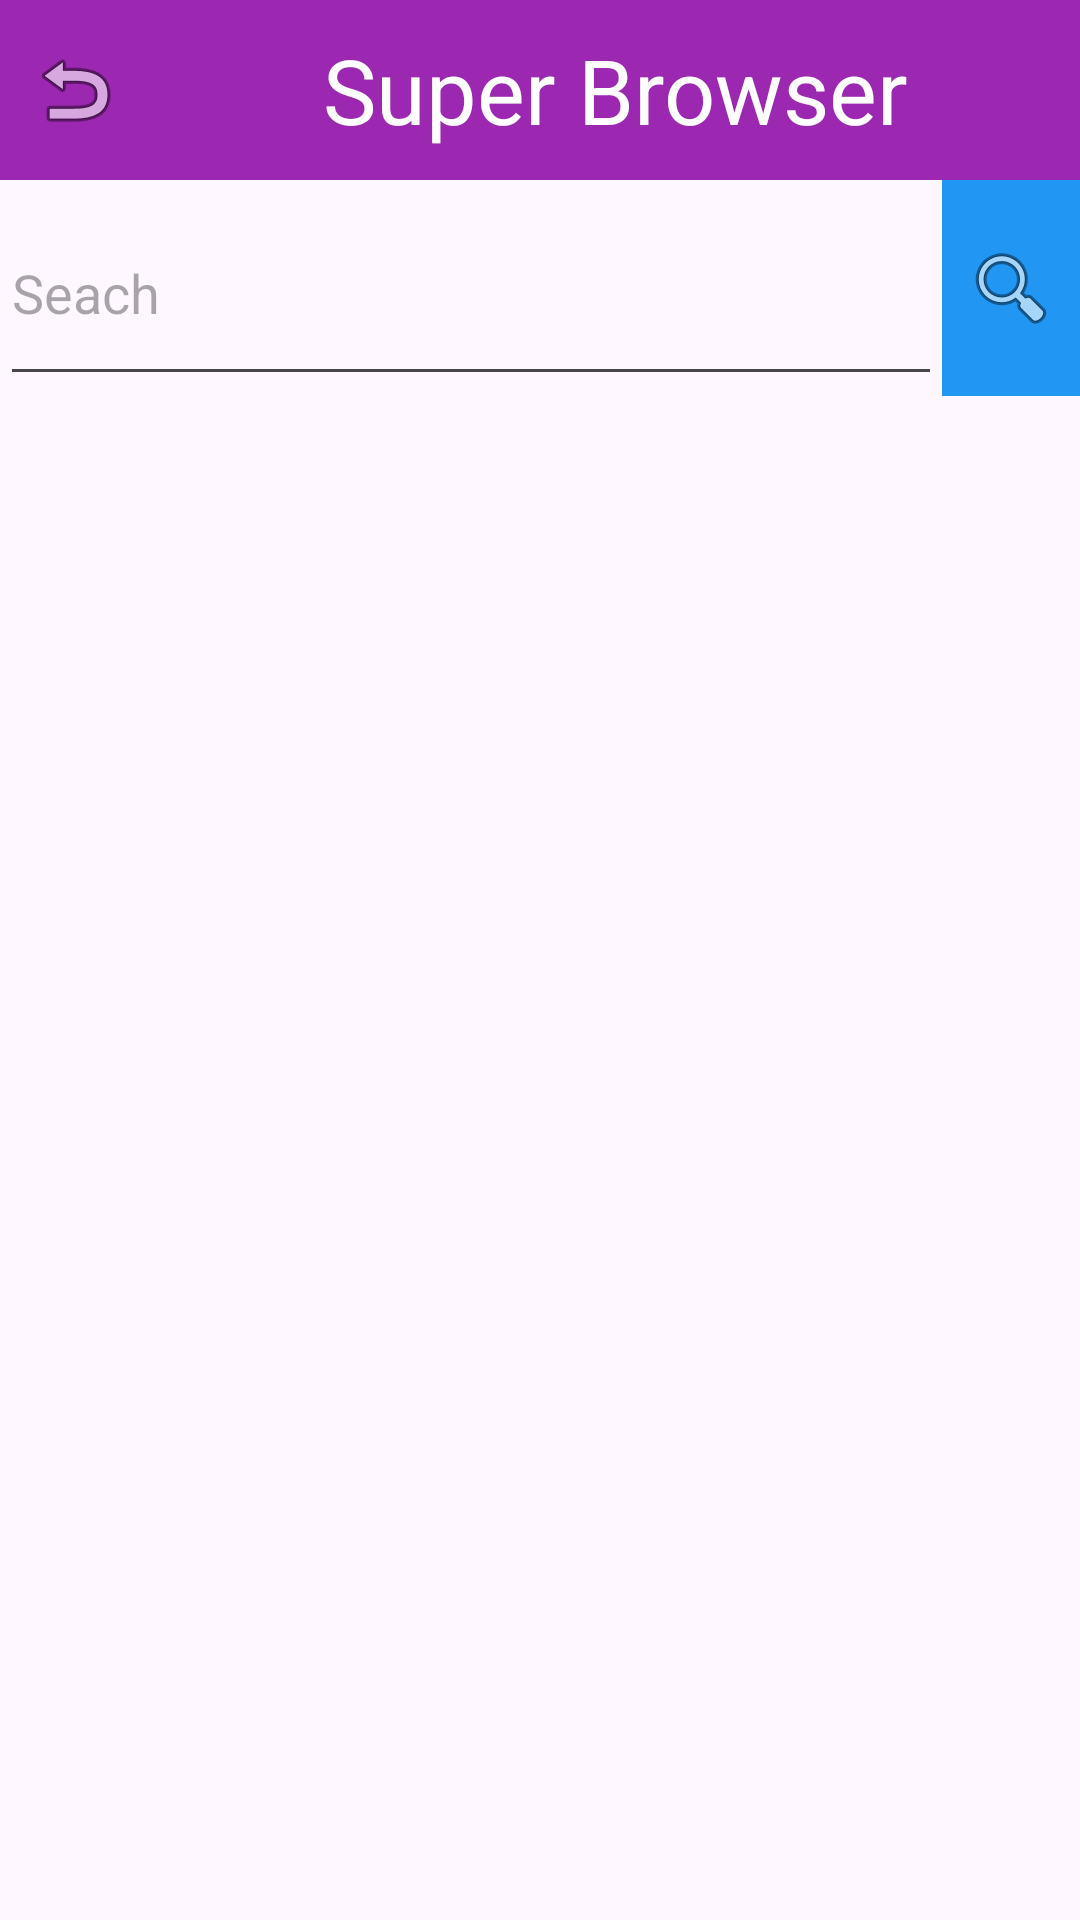

Screen size 1080 x 1920. Icon name, then its center in pixels as (x,y):
revert: (76,90)
